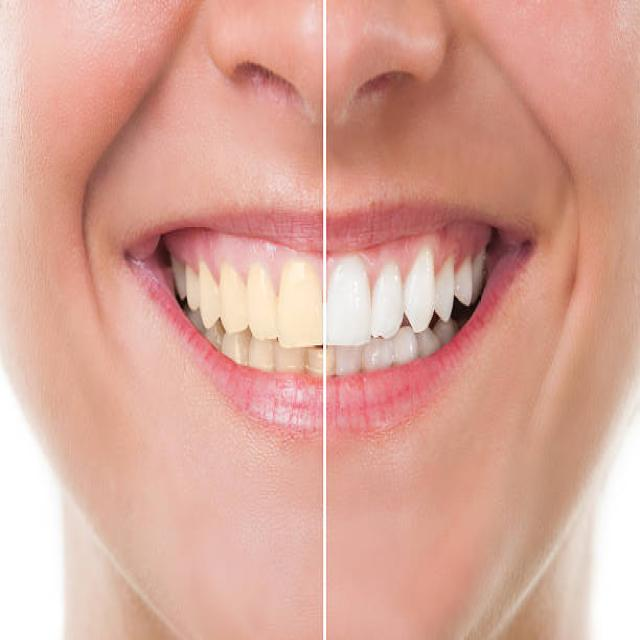tooth: (277, 263, 324, 347), (331, 258, 372, 350), (368, 255, 403, 332), (246, 266, 279, 342), (406, 249, 436, 330), (220, 270, 244, 331), (247, 333, 279, 375), (197, 268, 220, 318), (454, 257, 473, 312), (438, 260, 455, 315), (225, 328, 247, 362), (307, 347, 333, 375), (389, 332, 415, 358), (280, 350, 304, 375), (364, 344, 389, 367), (336, 347, 356, 375), (418, 333, 437, 356), (187, 273, 200, 304), (476, 256, 488, 288), (172, 266, 185, 295), (207, 326, 225, 346)
